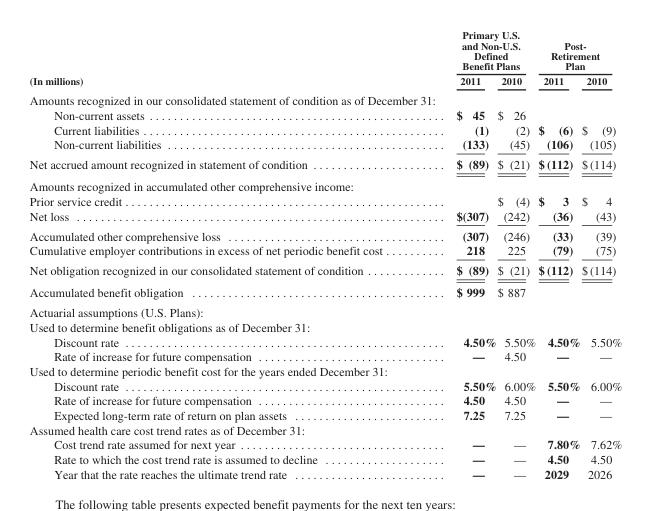table: (28, 28, 621, 480)
table column: (28, 28, 418, 480), (418, 28, 496, 480), (536, 28, 580, 480), (580, 28, 621, 480), (496, 28, 536, 480)
table column header: (28, 28, 621, 89)
table projected row header: (28, 89, 621, 107), (28, 175, 621, 193), (28, 302, 621, 319), (28, 319, 621, 333), (28, 363, 621, 377), (28, 422, 621, 436)
table row: (28, 28, 621, 73), (28, 153, 621, 175), (28, 280, 621, 302), (28, 259, 621, 280), (28, 89, 621, 107), (28, 175, 621, 193), (28, 136, 621, 153), (28, 208, 621, 225), (28, 225, 621, 242), (28, 242, 621, 259), (28, 302, 621, 319), (28, 73, 621, 89), (28, 121, 621, 136), (28, 193, 621, 208), (28, 333, 621, 348), (28, 348, 621, 363), (28, 377, 621, 392), (28, 392, 621, 407), (28, 407, 621, 422), (28, 436, 621, 451), (28, 451, 621, 466), (28, 107, 621, 121), (28, 319, 621, 333), (28, 363, 621, 377), (28, 422, 621, 436), (28, 466, 621, 480)
table spanning cell: (28, 28, 418, 89), (418, 28, 536, 73), (536, 28, 621, 73)
